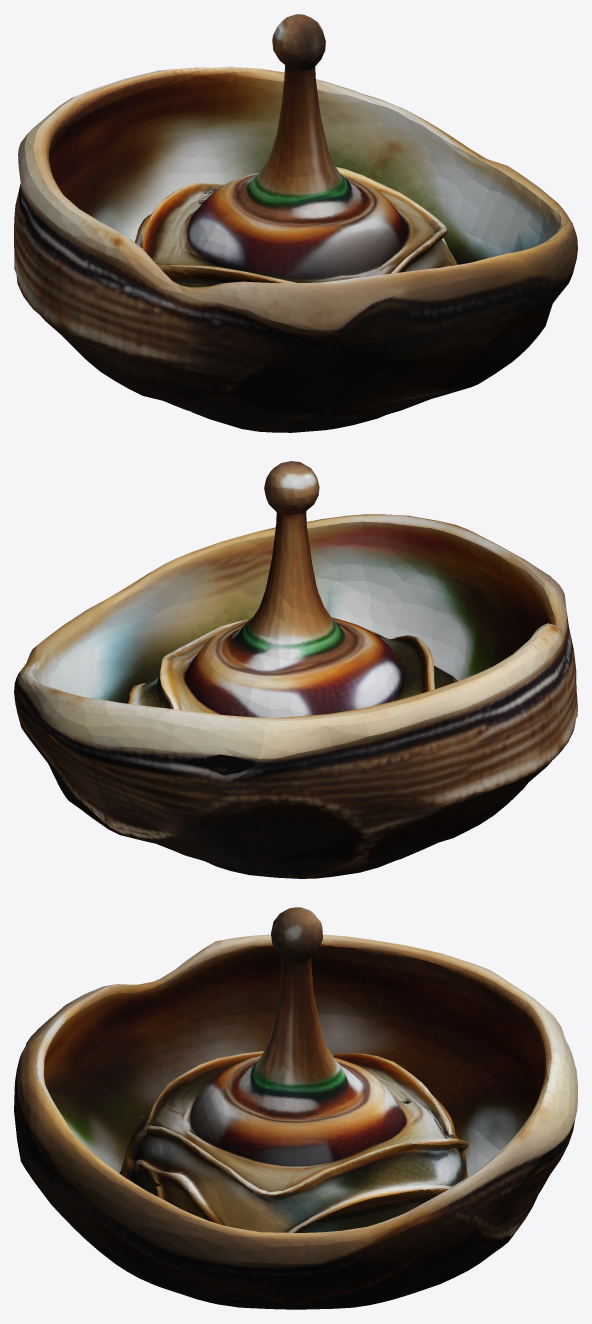
File: seed-shell-spinning-top-3d.jpeg.glb
3 views of the same model, one above another, from view 1: azimuth 30°, elevation 25°; view 2: azimuth 150°, elevation 25°; view 3: azimuth 270°, elevation 25° (orthographic). The views are drawn at different scales.
Visible parts, largest first — view 1: world; view 2: world; view 3: world.
Part boxes in pixels (x1=…): world: x1=14, y1=14, x2=577, y2=432; world: x1=14, y1=461, x2=577, y2=878; world: x1=14, y1=907, x2=577, y2=1309.
Bounding box in the file's own units: 0.9836 × 0.6844 × 0.9989.
Materials: 1 (1 with a texture image).
